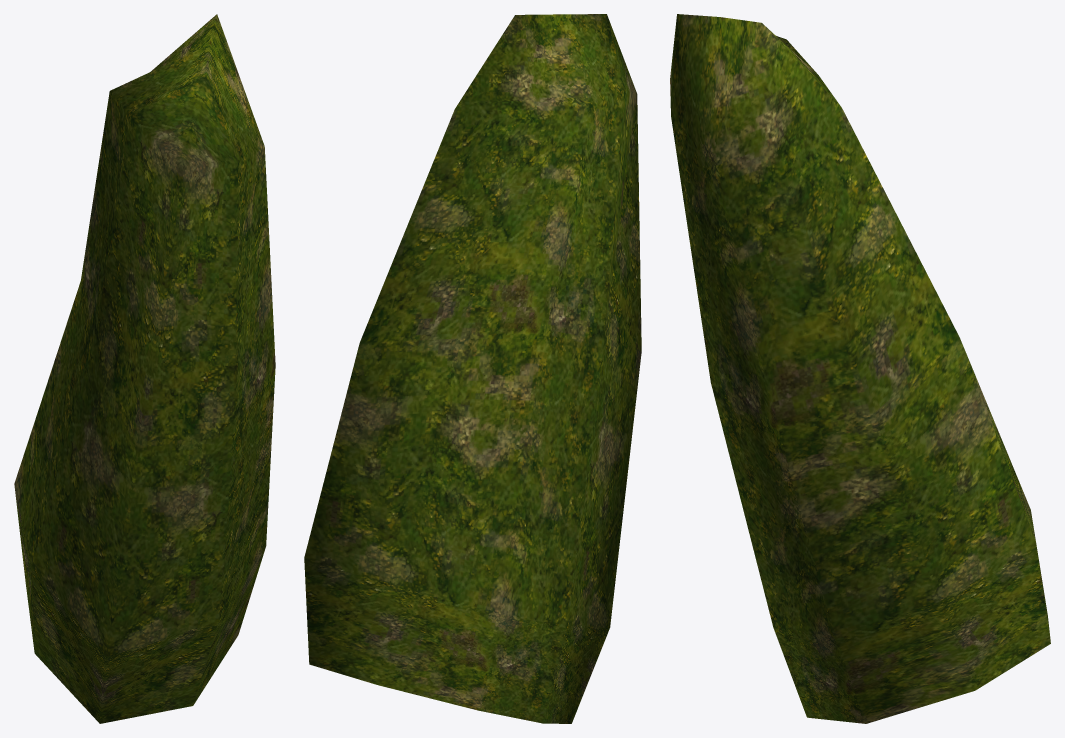
File: OVERHILL_A_01_BR_ROCK207.fbx
3 views of the same model, side by side, from view 1: azimuth 30°, elevation 25°; view 2: azimuth 150°, elevation 25°; view 3: azimuth 270°, elevation 25° (orthographic). The views are drawn at different scales.
Parts seen in each view (by area): view 1: OVERHILL_A_01_BR_ROCK207; view 2: OVERHILL_A_01_BR_ROCK207; view 3: OVERHILL_A_01_BR_ROCK207.
Boxes of the visible parts, x1,y1,x2,y2 form: OVERHILL_A_01_BR_ROCK207: (14, 14, 275, 723); OVERHILL_A_01_BR_ROCK207: (304, 14, 641, 723); OVERHILL_A_01_BR_ROCK207: (670, 14, 1050, 723).
Bounding box in the file's own units: 24150 × 71027 × 35235.
Materials: 1 (1 with a texture image).
